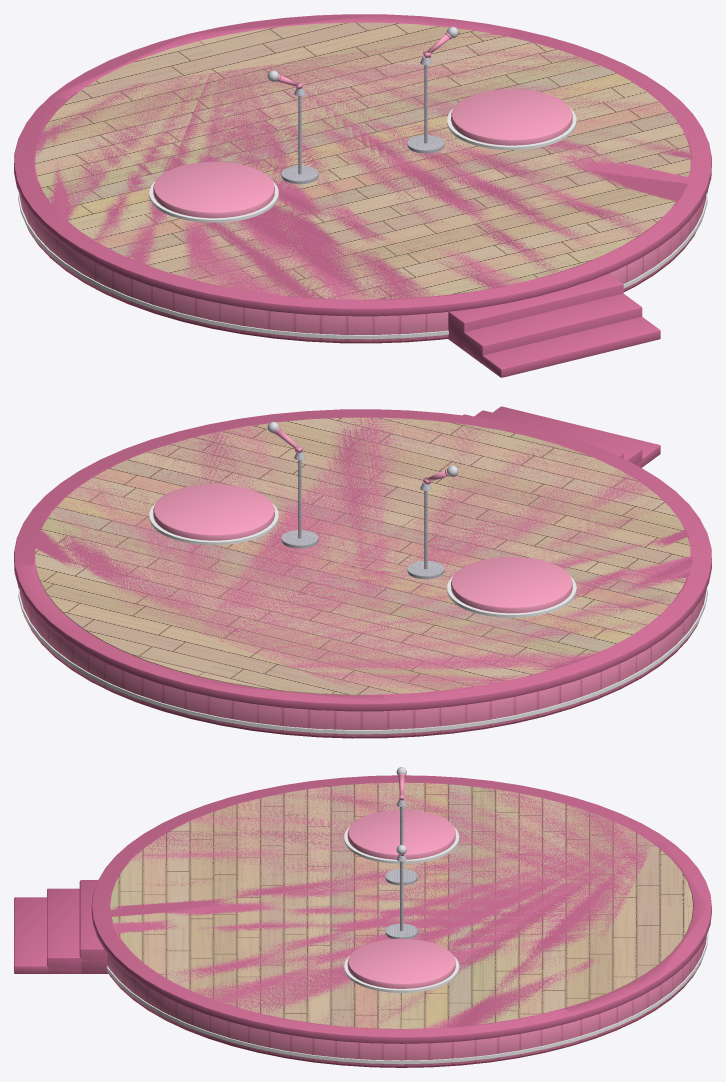
The model's file is DuelStage.fbx.
3 renders of one model, top to bottom at view 1: azimuth 30°, elevation 25°; view 2: azimuth 150°, elevation 25°; view 3: azimuth 270°, elevation 25°, orthographic. The views are drawn at different scales.
Visible parts, largest first — view 1: Stage_Floor, Stage_Lip, Stage_Steps, Stage_Base, SpotPlatformA, SpotPlatformB, Stage_Neon, MicStandB, MicStandA, SpotPlatformB_Ring, SpotPlatformA_Ring; view 2: Stage_Floor, Stage_Lip, Stage_Base, SpotPlatformB, SpotPlatformA, Stage_Neon, Stage_Steps, MicStandB, MicStandA, SpotPlatformB_Ring, SpotPlatformA_Ring; view 3: Stage_Floor, Stage_Lip, Stage_Base, Stage_Steps, SpotPlatformB, SpotPlatformA, Stage_Neon, MicStandB, SpotPlatformB_Ring, SpotPlatformA_Ring, MicStandA.
Boxes of the visible parts, x1,y1,x2,y2 form: Stage_Floor: (35,22,690,299); Stage_Lip: (14,14,711,316); Stage_Steps: (448,273,660,377); Stage_Base: (19,194,706,343); SpotPlatformA: (153,161,274,218); SpotPlatformB: (451,89,572,145); Stage_Neon: (18,190,707,339); MicStandB: (407,56,444,153); MicStandA: (281,87,318,184); SpotPlatformB_Ring: (447,108,576,149); SpotPlatformA_Ring: (149,181,278,222); Stage_Floor: (35,417,690,695); Stage_Lip: (14,409,711,711); Stage_Base: (19,589,706,738); SpotPlatformB: (153,484,274,540); SpotPlatformA: (451,556,572,613); Stage_Neon: (18,586,707,734); Stage_Steps: (463,406,660,467); MicStandB: (281,451,318,548); MicStandA: (407,482,444,579); SpotPlatformB_Ring: (149,503,278,545); SpotPlatformA_Ring: (447,576,576,617); Stage_Floor: (110,782,693,1028); Stage_Lip: (91,775,711,1043); Stage_Base: (107,936,706,1067); Stage_Steps: (14,880,108,973); SpotPlatformB: (347,938,455,988); SpotPlatformA: (347,809,455,859); Stage_Neon: (106,932,708,1064); MicStandB: (385,854,418,938); SpotPlatformB_Ring: (344,956,459,992); SpotPlatformA_Ring: (344,826,459,863); MicStandA: (385,799,418,885).
Size of the model in its own units: 26.4 by 6.27 by 29.7.
Materials: 7 (3 with a texture image).
